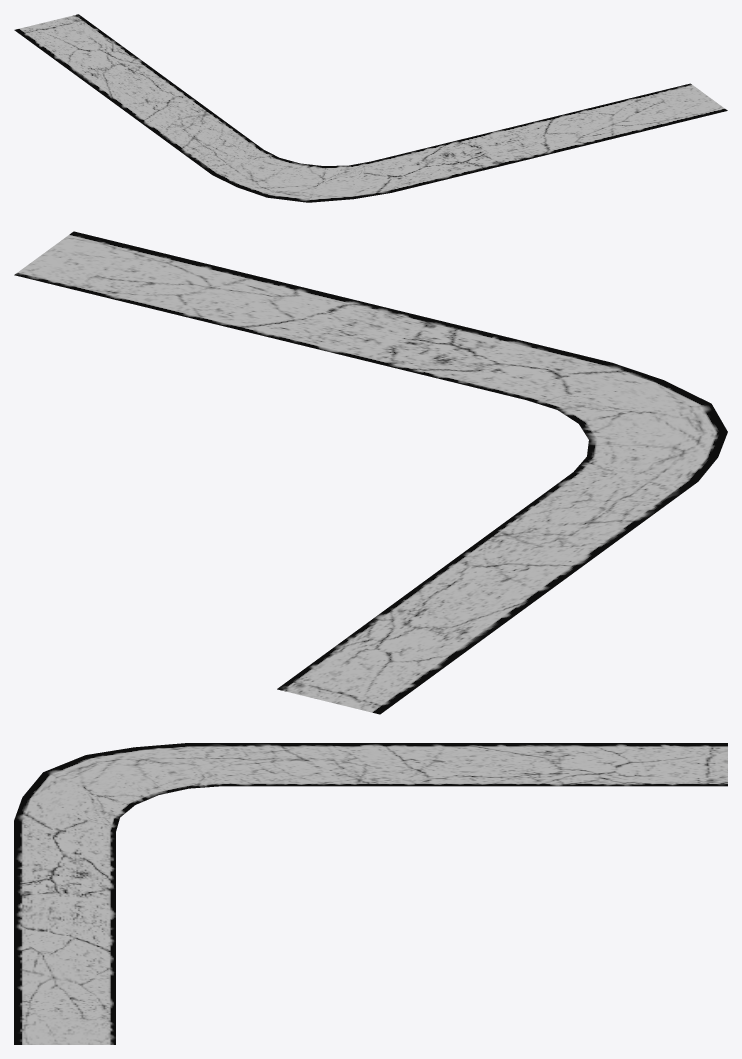
File: Sidewalk_Corner_Flat_1m_Stripe.gltf
3 renders of one model, top to bottom at view 1: azimuth 30°, elevation 25°; view 2: azimuth 150°, elevation 25°; view 3: azimuth 270°, elevation 25°, orthographic. The views are drawn at different scales.
Visible parts, largest first — view 1: Sidewalk_Corner_Flat_1m_Stripe; view 2: Sidewalk_Corner_Flat_1m_Stripe; view 3: Sidewalk_Corner_Flat_1m_Stripe.
Part boxes in pixels (x1=…): Sidewalk_Corner_Flat_1m_Stripe: x1=14, y1=14, x2=727, y2=202; Sidewalk_Corner_Flat_1m_Stripe: x1=14, y1=231, x2=727, y2=714; Sidewalk_Corner_Flat_1m_Stripe: x1=14, y1=743, x2=727, y2=1044.
Size of the model in its own units: 1.4 by 0 by 1.4.
Materials: 1 (1 with a texture image).
